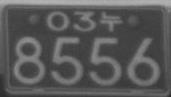0: (46, 9, 70, 32)
3: (72, 9, 97, 32)
5: (50, 36, 84, 86), (89, 37, 122, 86)
6: (126, 36, 161, 88)
8: (13, 35, 46, 85)
누: (100, 10, 123, 32)
